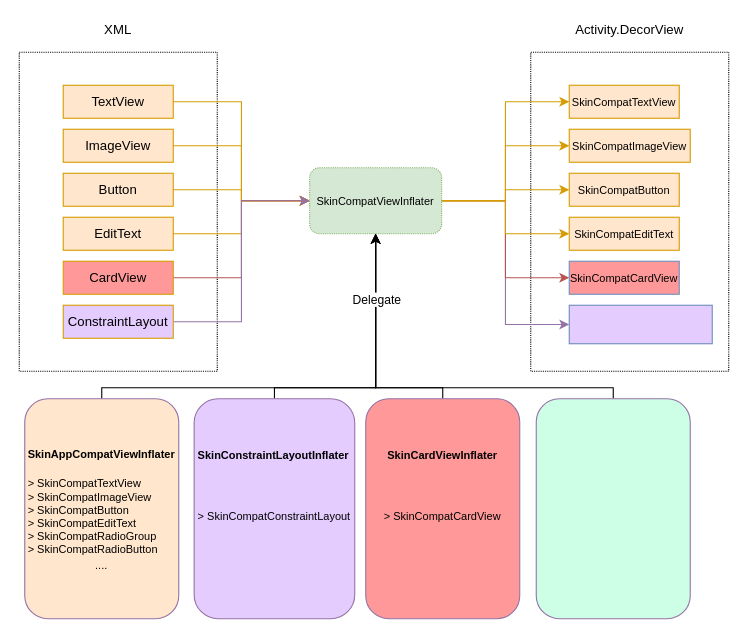
This 748x638 diagram has some shape labels left out. Here are the shapes that lost their labels. From the top down, the box of each, then its label:
(568, 304, 712, 344): SkinCompatConstraintLayout
(535, 398, 690, 619): 其它三方库扩展支持，比如： SkinSmartRefreshLayoutInflater >SkinCompatSmartRefreshLayout
